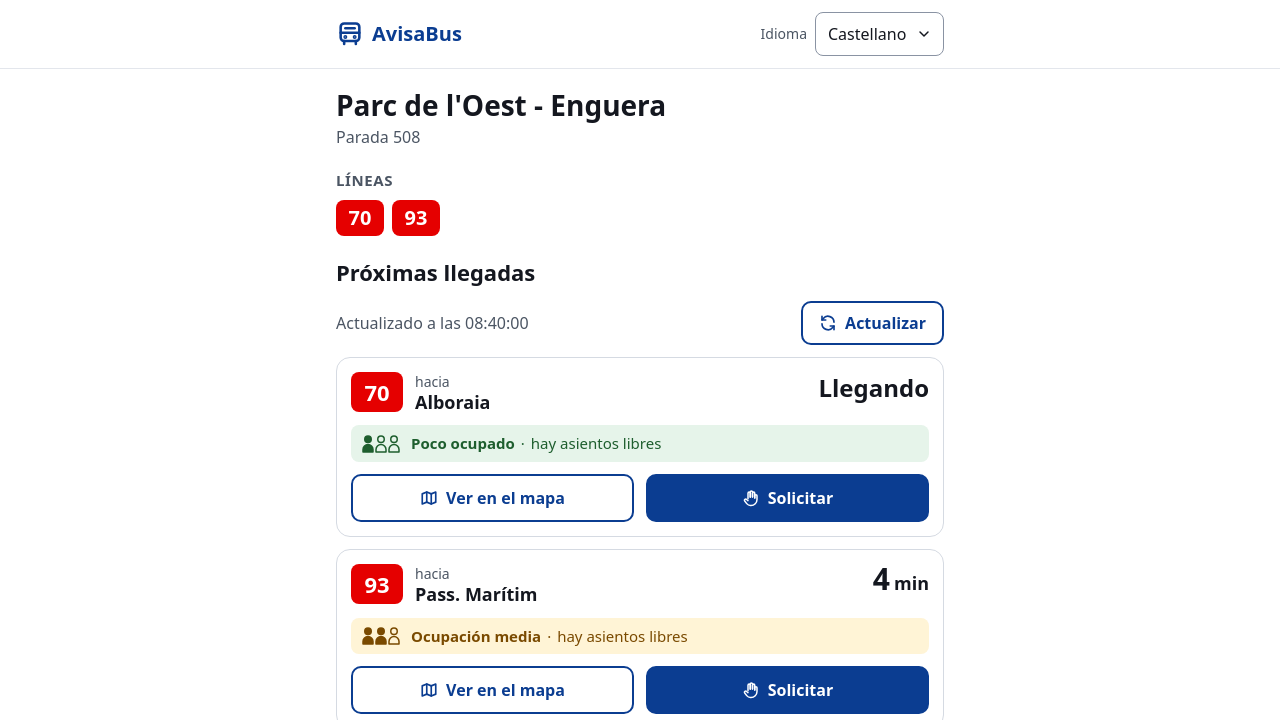
Test: StopPage › [passenger_stop_view.AC-14] shows the update time and refreshes on demand announcing "Datos actualizados"
Later steps or results of the test are not shown.
Expected: the text "Actualizado a las 08:40:00" is shown, x1=336 y1=311 x2=528 y2=335
Click the button "Actualizar" at (873, 323), box x1=801 y1=301 x2=944 y2=345
Wait 200 ms
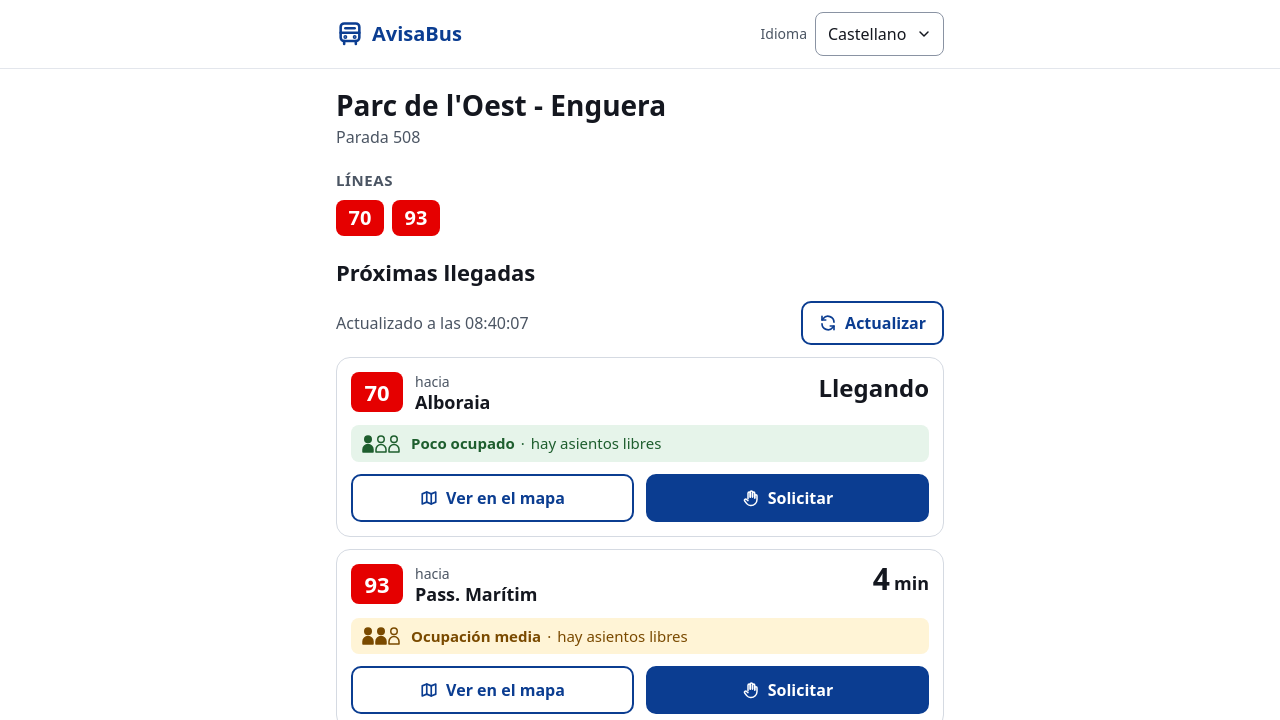
Result: the text "Actualizado a las 08:40:07" is shown at x1=336 y1=311 x2=528 y2=335
